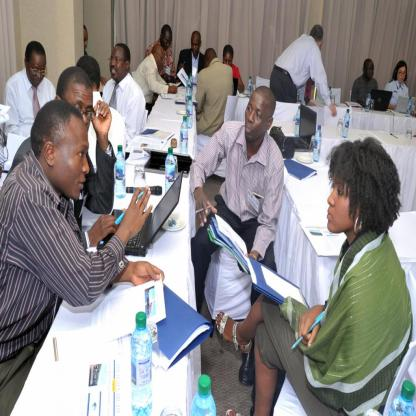board: (96, 170, 184, 259), (131, 310, 152, 416), (285, 103, 316, 152), (144, 148, 192, 177), (386, 378, 416, 416), (190, 374, 216, 416), (357, 89, 392, 112), (115, 144, 126, 198), (390, 95, 416, 115), (166, 148, 176, 193), (180, 116, 188, 154), (314, 125, 322, 162), (343, 106, 351, 139), (186, 96, 192, 128), (294, 105, 300, 135), (187, 80, 192, 106), (407, 95, 413, 115), (366, 91, 372, 110), (247, 75, 252, 97), (233, 76, 238, 95)
